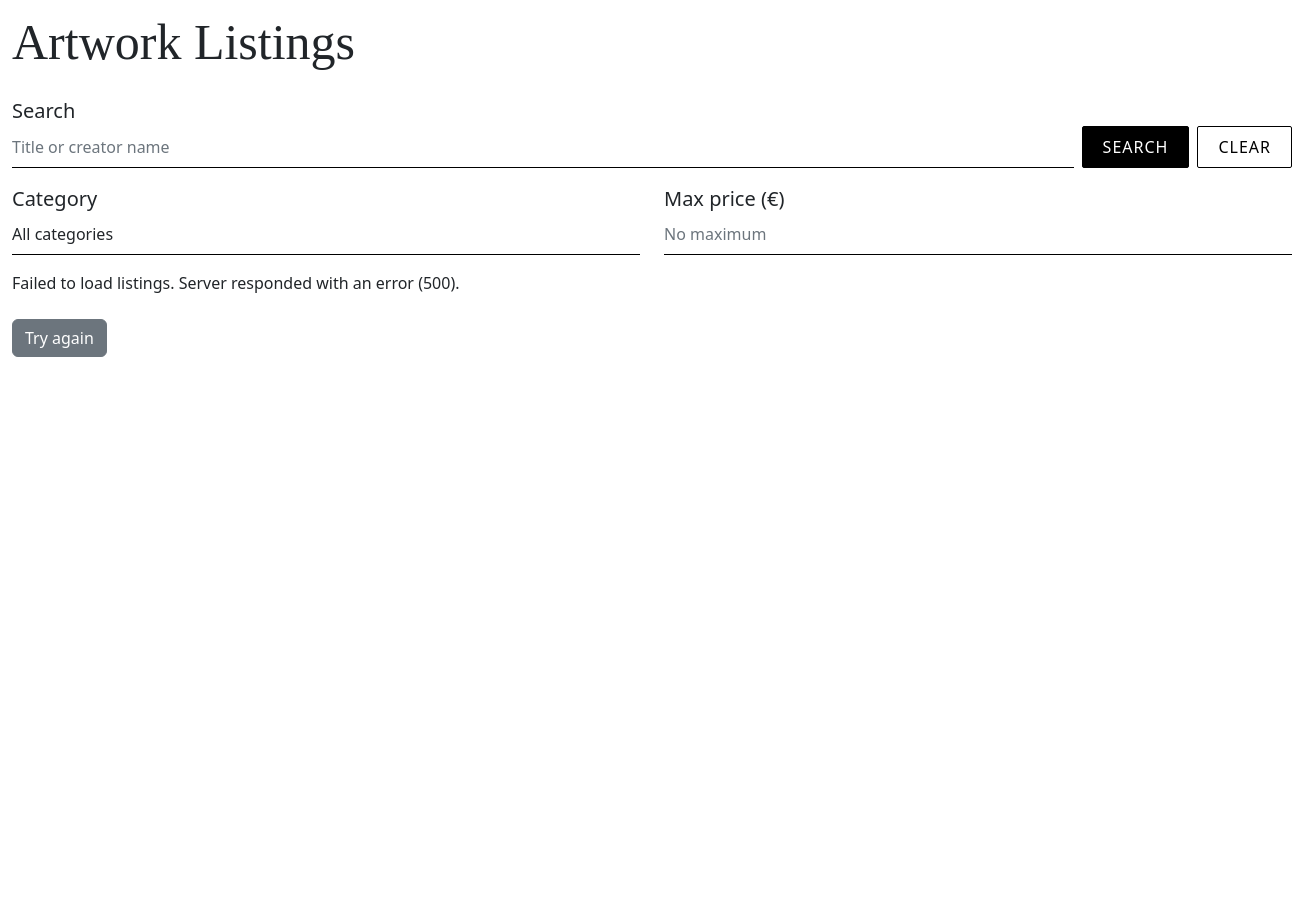
ArtworkListings results › shows an error and loads the listings again after Try again
The width and height of the screenshot is (1304, 912).
Expected: the text "Failed to load listings" is shown, [12,272,179,294]
Click the button "Try again" at (59, 338), box [12,319,107,357]
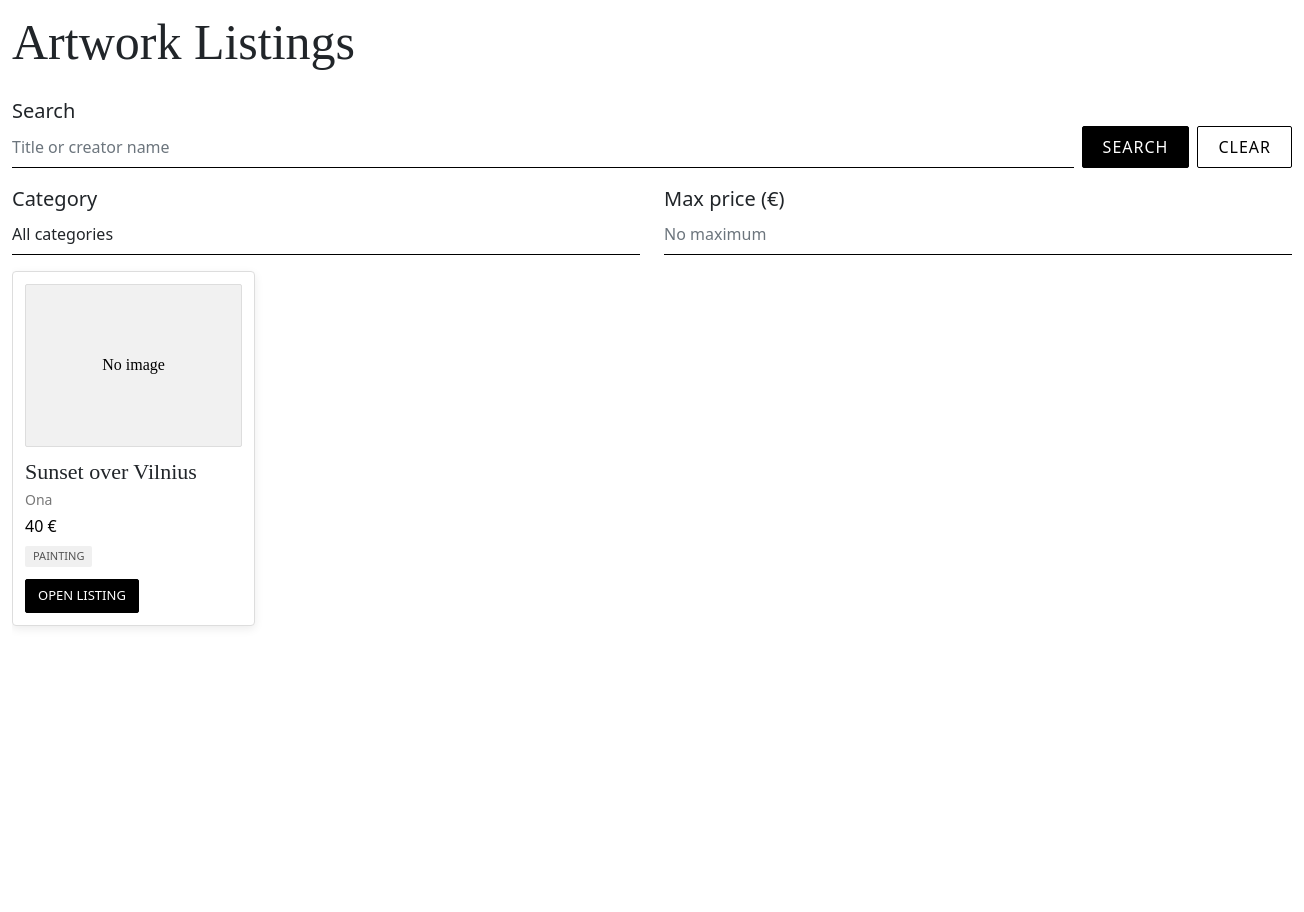
Expected: the heading "Sunset over Vilnius" is shown, [25,459,197,484]
Expected: the text "Failed to load listings" is gone
